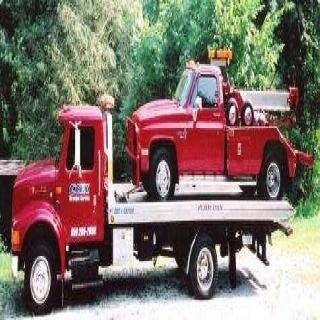Towing_truck: (10, 89, 295, 310), (132, 39, 314, 195)
